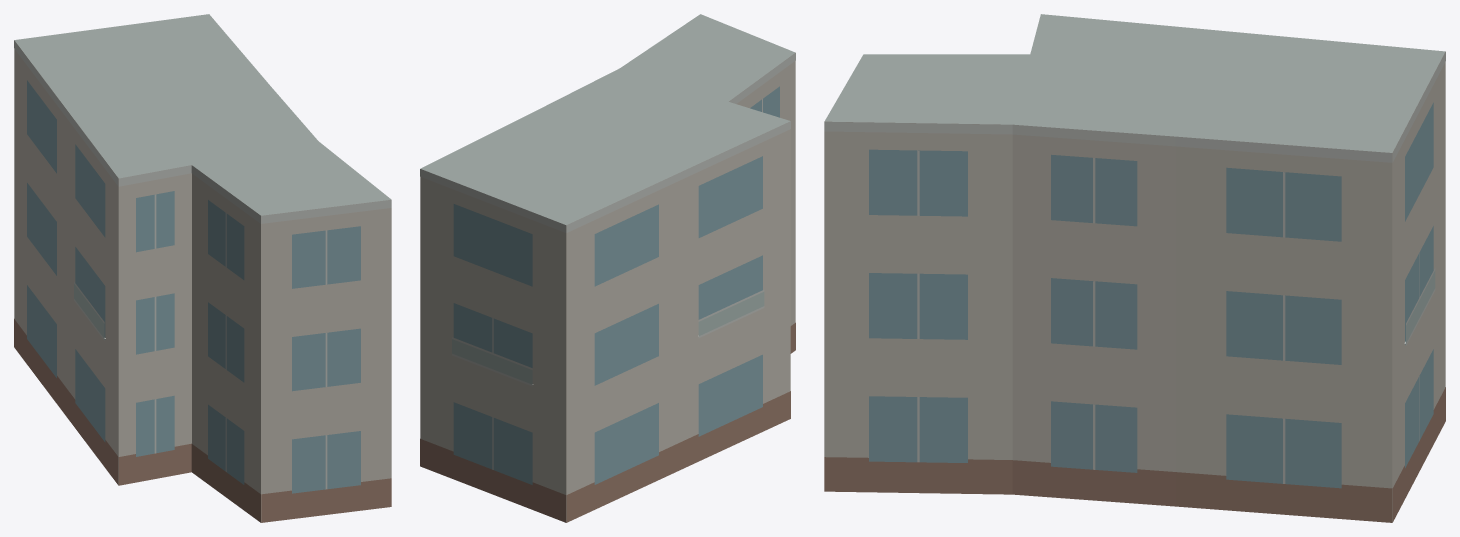
Rendered from survey-upis-33039434.glb.
3 views of the same model, side by side, from view 1: azimuth 30°, elevation 25°; view 2: azimuth 150°, elevation 25°; view 3: azimuth 270°, elevation 25° (orthographic). The views are drawn at different scales.
Parts seen in each view (by area): view 1: survey-upis-33039434.tmp; view 2: survey-upis-33039434.tmp; view 3: survey-upis-33039434.tmp.
Part boxes in pixels (box(x1,y1,x2,y2)): survey-upis-33039434.tmp: box(14, 14, 391, 522); survey-upis-33039434.tmp: box(420, 14, 795, 522); survey-upis-33039434.tmp: box(824, 14, 1445, 522).
Bounding box in the file's own units: 7.38 × 9.15 × 13.94.
